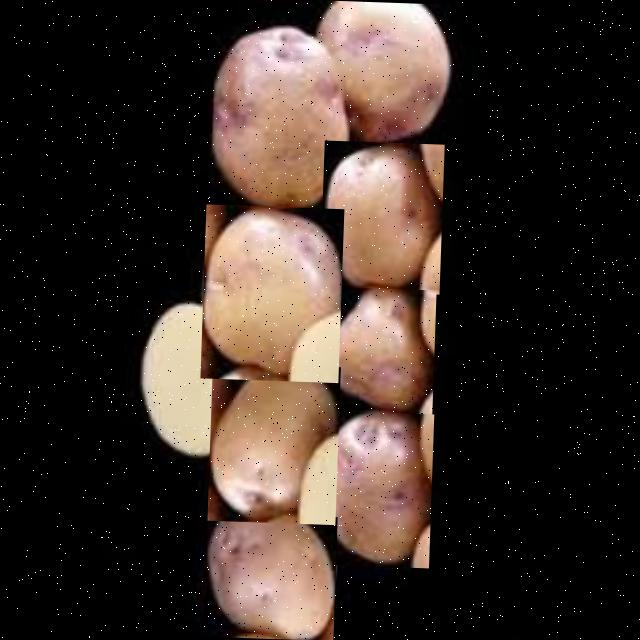Damaged potato: (318, 410, 432, 568)
Defected potato: (205, 19, 355, 218), (305, 0, 451, 148), (318, 140, 443, 294), (202, 512, 336, 640), (321, 286, 435, 420)
Potato: (199, 204, 343, 383), (206, 362, 339, 524)
